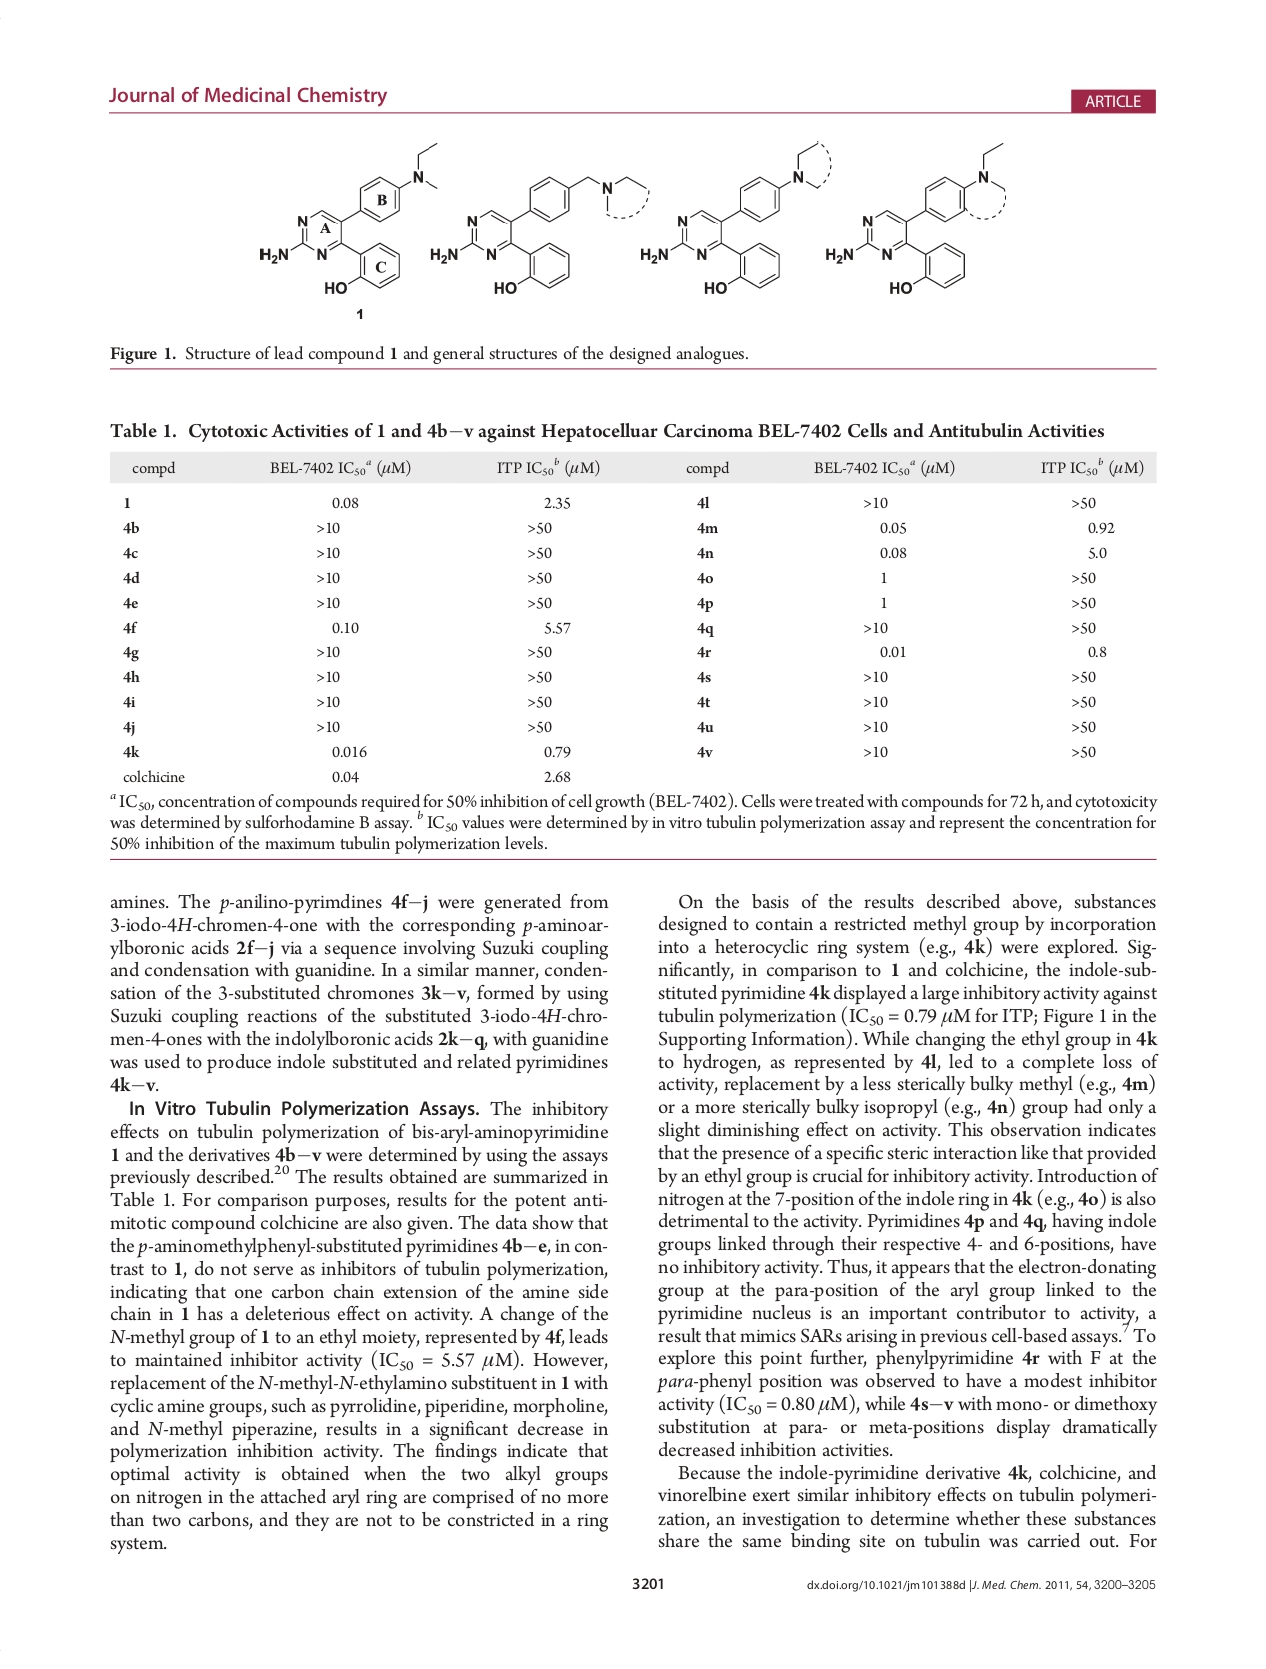exist_molecular: (640, 138, 832, 297), (255, 140, 442, 297), (824, 140, 1008, 297), (424, 174, 652, 297)
